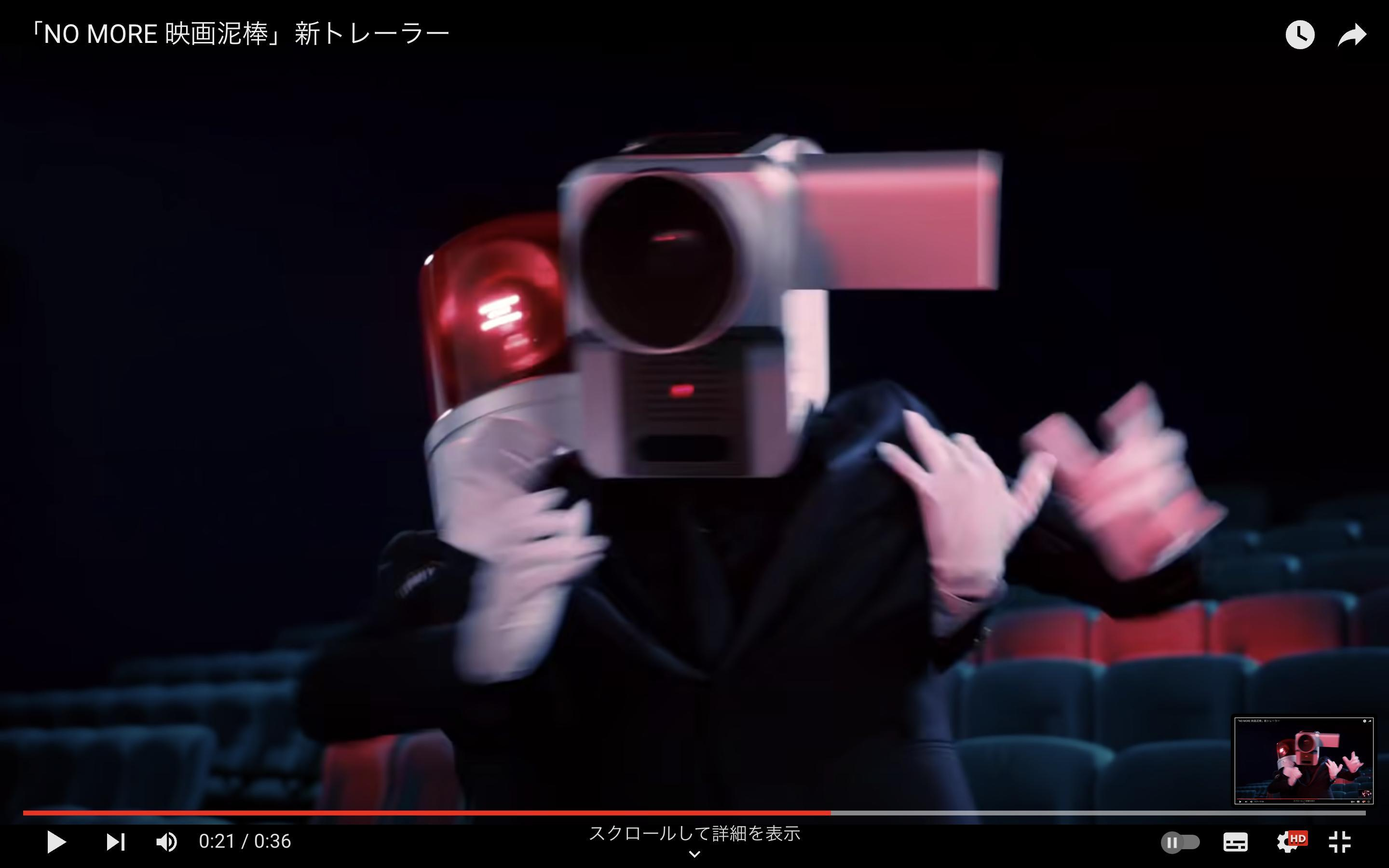no more kid: (569, 153, 999, 478)
